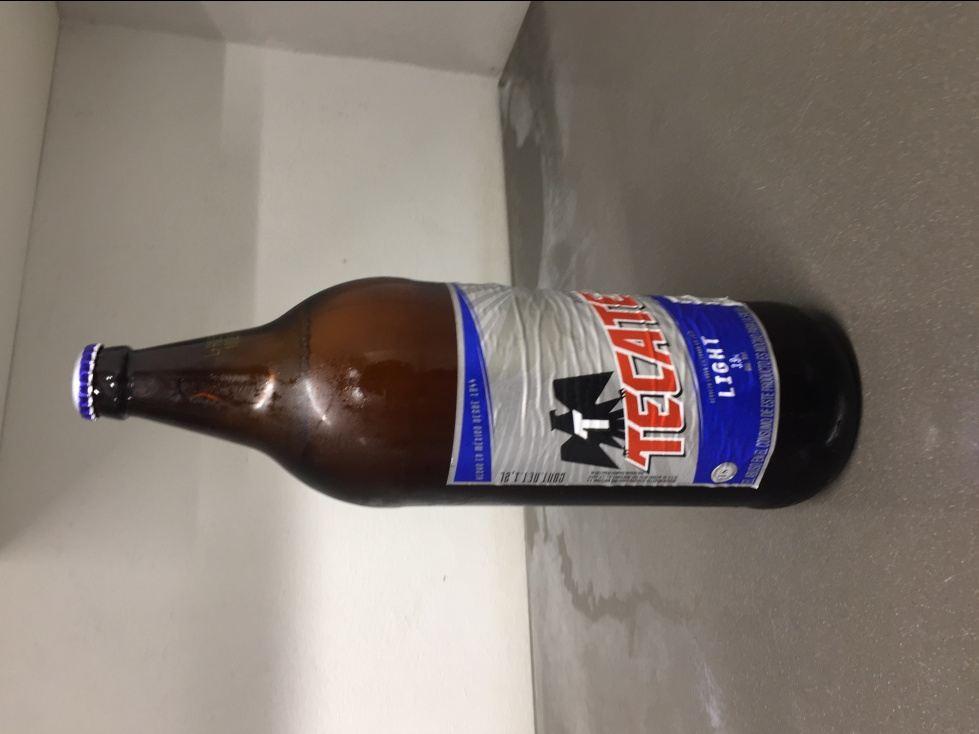tecateC: (84, 261, 857, 513)
